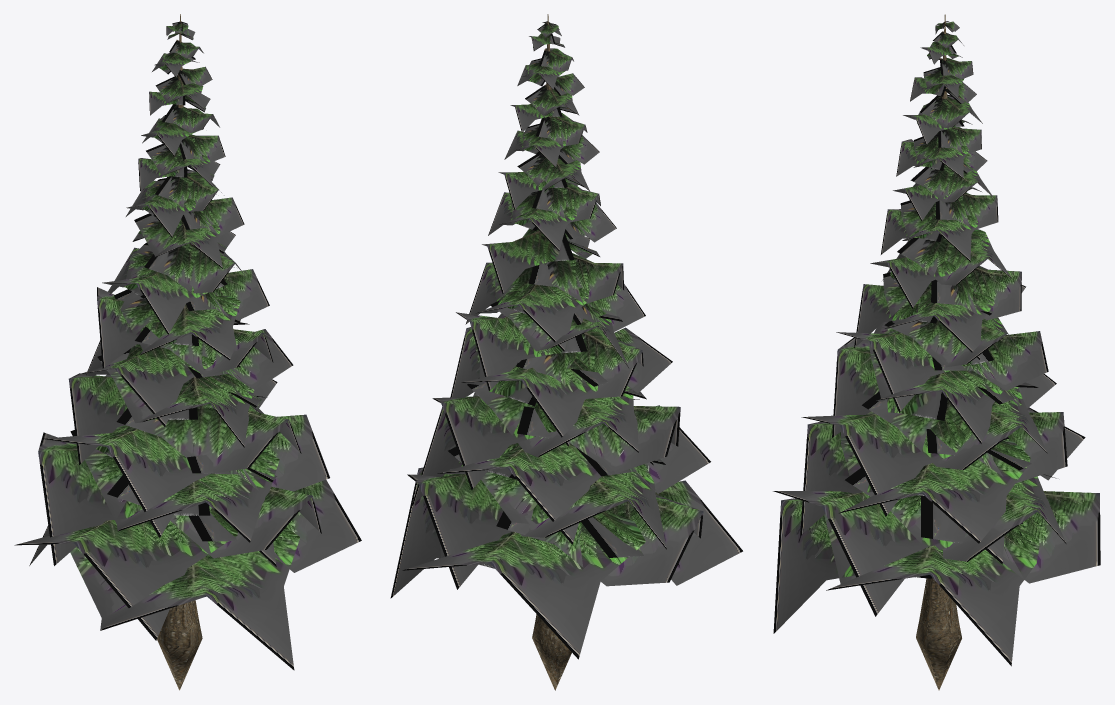
The model's file is RHE_SpruceTerrainA.fbx.
The picture shows the model from 3 angles, left to right: view 1: azimuth 30°, elevation 25°; view 2: azimuth 150°, elevation 25°; view 3: azimuth 270°, elevation 25°; orthographic projection.
Parts seen in each view (by area): view 1: RHE_SpruceA; view 2: RHE_SpruceA; view 3: RHE_SpruceA.
Boxes of the visible parts, x1,y1,x2,y2 form: RHE_SpruceA: [14, 14, 361, 690]; RHE_SpruceA: [390, 14, 742, 690]; RHE_SpruceA: [773, 14, 1100, 690].
Bounding box in the file's own units: 22.04 × 50.71 × 22.22.
